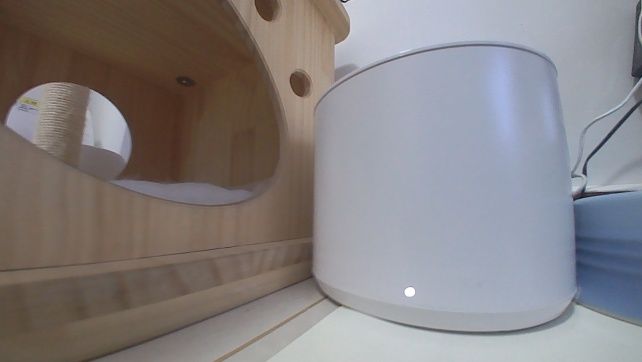wire: (567, 75, 641, 201)
